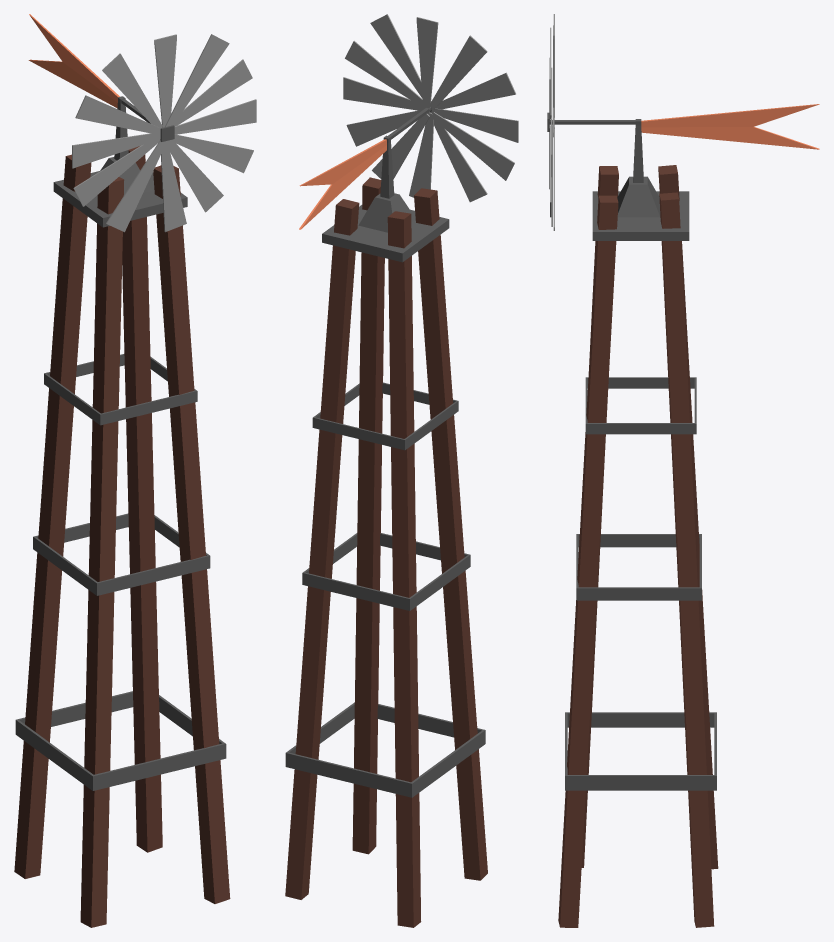
The model's file is Windmill.fbx.
3 renders of one model, left to right at view 1: azimuth 30°, elevation 25°; view 2: azimuth 150°, elevation 25°; view 3: azimuth 270°, elevation 25°, orthographic. The views are drawn at different scales.
Visible parts, largest first — view 1: Cube.003, Cube.002, Cube.004, p, Cube.005, Plane, Plane.001, Plane.002, Cube.020, Plane.003, Cube.006; view 2: Cube.002, Cube.003, Cube.005, p, Cube.004, Plane, Plane.001, Plane.003, Plane.002, Cube.006, Cube.020; view 3: Cube.004, Cube.005, Plane, Cube.020, Cube.002, Plane.001, Cube.006, Plane.002, Plane.003, Cube.003, p.
Part boxes in pixels (left/top/right/bottom): Cube.003: left=80, top=177, right=124, bottom=927; Cube.002: left=14, top=154, right=91, bottom=878; Cube.004: left=153, top=165, right=230, bottom=903; p: left=72, top=34, right=256, bottom=232; Cube.005: left=122, top=146, right=162, bottom=852; Plane: left=15, top=691, right=226, bottom=790; Plane.001: left=33, top=513, right=210, bottom=595; Plane.002: left=44, top=354, right=197, bottom=425; Cube.020: left=28, top=14, right=119, bottom=108; Plane.003: left=53, top=171, right=187, bottom=227; Cube.006: left=100, top=96, right=174, bottom=195; Cube.002: left=387, top=211, right=421, bottom=927; Cube.003: left=414, top=188, right=487, bottom=880; Cube.005: left=285, top=199, right=359, bottom=899; p: left=343, top=14, right=518, bottom=202; Cube.004: left=352, top=177, right=384, bottom=854; Plane: left=285, top=702, right=485, bottom=797; Plane.001: left=302, top=533, right=470, bottom=610; Plane.003: left=322, top=205, right=449, bottom=262; Plane.002: left=312, top=382, right=458, bottom=450; Cube.006: left=358, top=107, right=431, bottom=232; Cube.020: left=299, top=139, right=386, bottom=229; Cube.004: left=558, top=195, right=618, bottom=927; Cube.005: left=659, top=192, right=714, bottom=927; Plane: left=565, top=712, right=716, bottom=790; Cube.020: left=641, top=104, right=819, bottom=149; Cube.002: left=658, top=165, right=718, bottom=869; Plane.001: left=576, top=534, right=701, bottom=600; Cube.006: left=547, top=112, right=660, bottom=217; Plane.002: left=585, top=377, right=696, bottom=434; Plane.003: left=592, top=191, right=689, bottom=240; Cube.003: left=581, top=166, right=618, bottom=867; p: left=549, top=14, right=554, bottom=230.
Bounding box in the file's own units: 345 × 1582 × 451.
